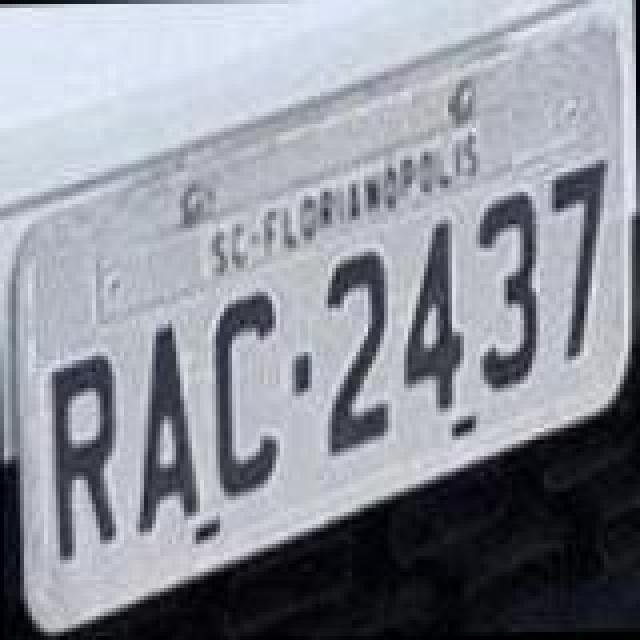2: (318, 242, 394, 458)
3: (476, 186, 548, 394)
4: (396, 214, 468, 418)
7: (548, 160, 620, 368)
A: (130, 316, 202, 536)
C: (212, 284, 288, 500)
R: (44, 348, 120, 564)
